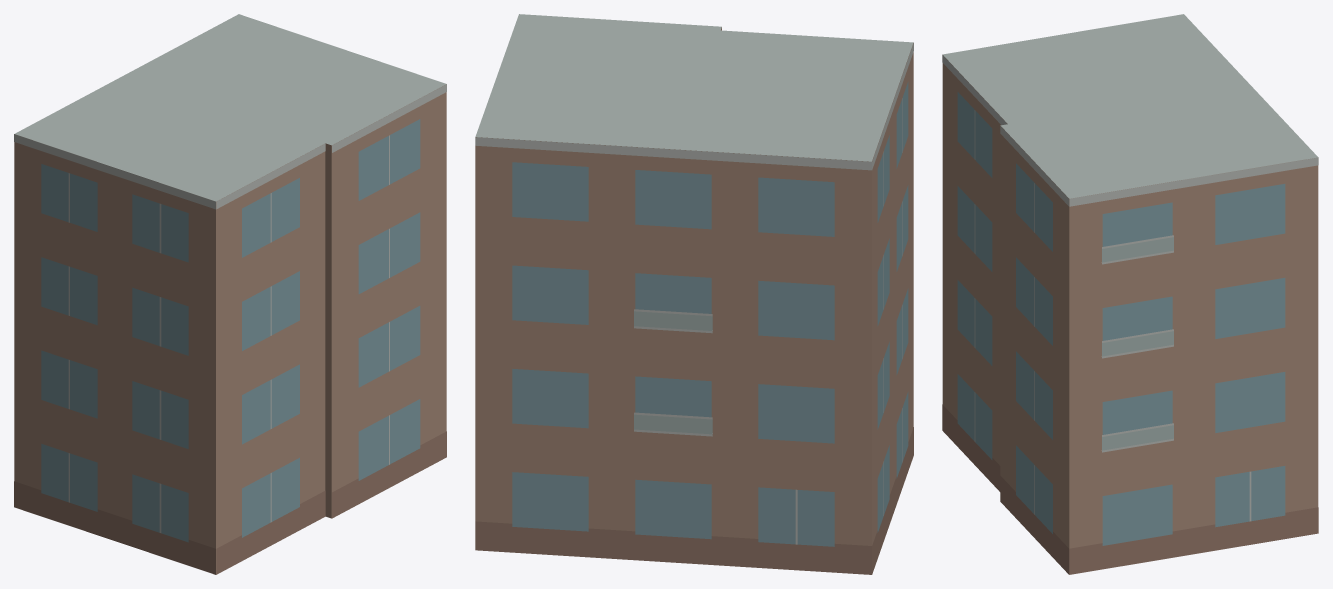
Rendered from survey-upis-32535745.glb.
3 renders of one model, left to right at view 1: azimuth 30°, elevation 25°; view 2: azimuth 150°, elevation 25°; view 3: azimuth 270°, elevation 25°, orthographic. The views are drawn at different scales.
Parts seen in each view (by area): view 1: survey-upis-32535745.tmp; view 2: survey-upis-32535745.tmp; view 3: survey-upis-32535745.tmp.
Boxes of the visible parts, x1,y1,x2,y2 form: survey-upis-32535745.tmp: (14, 14, 446, 574); survey-upis-32535745.tmp: (475, 14, 913, 574); survey-upis-32535745.tmp: (942, 14, 1318, 574).
Size of the model in its own units: 12.12 by 11.5 by 10.43.
